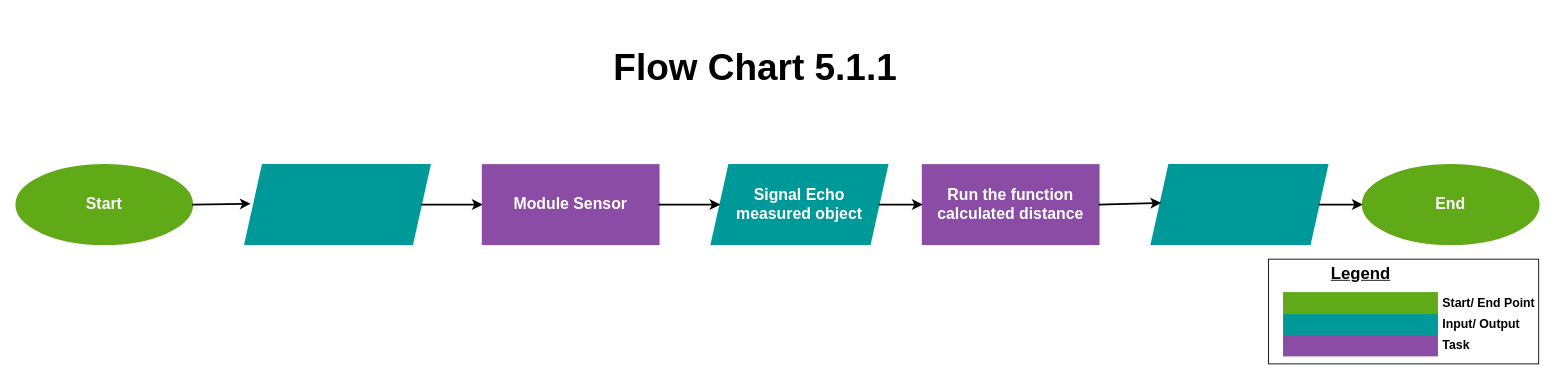
Some shapes in this 1554 by 379 pixel diagram are drawn without their labels. The shapes that lost their labels are listed below. From the top down, each one's centre as x and y in pixels, then its label:
point 337,204: Trigger Pulse from MCUs to Sensor
point 1239,204: The data detected distance object
